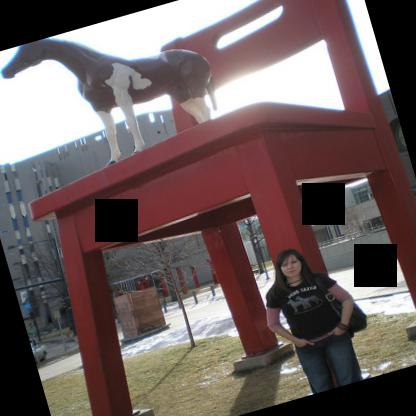handbag: (312, 274, 368, 338)
